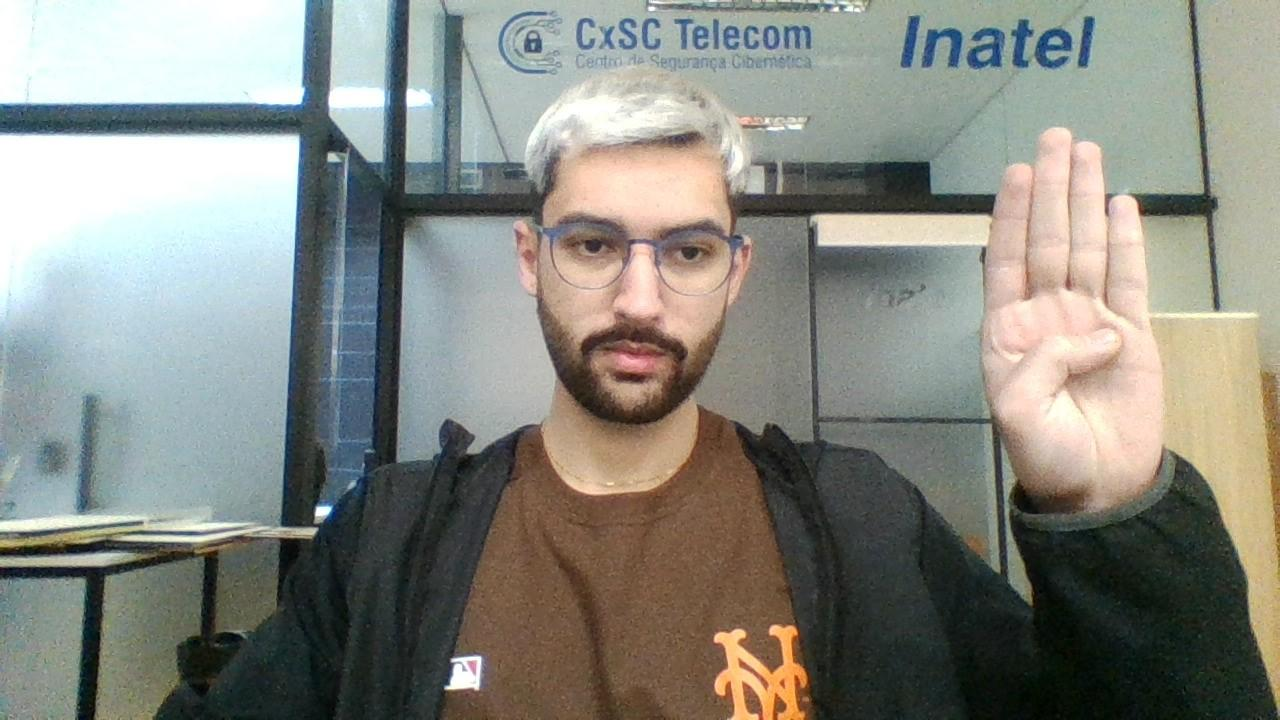B: (972, 122, 1176, 496)
